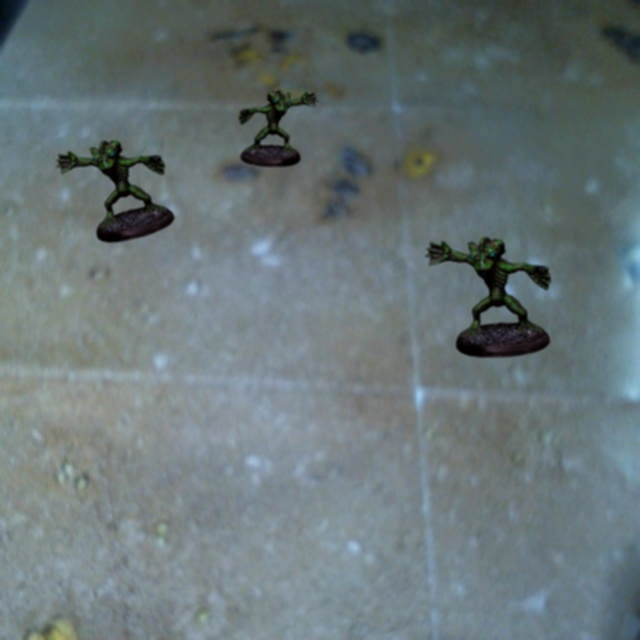pieza_juego: (425, 237, 550, 357), (56, 140, 174, 242), (239, 90, 317, 166)
